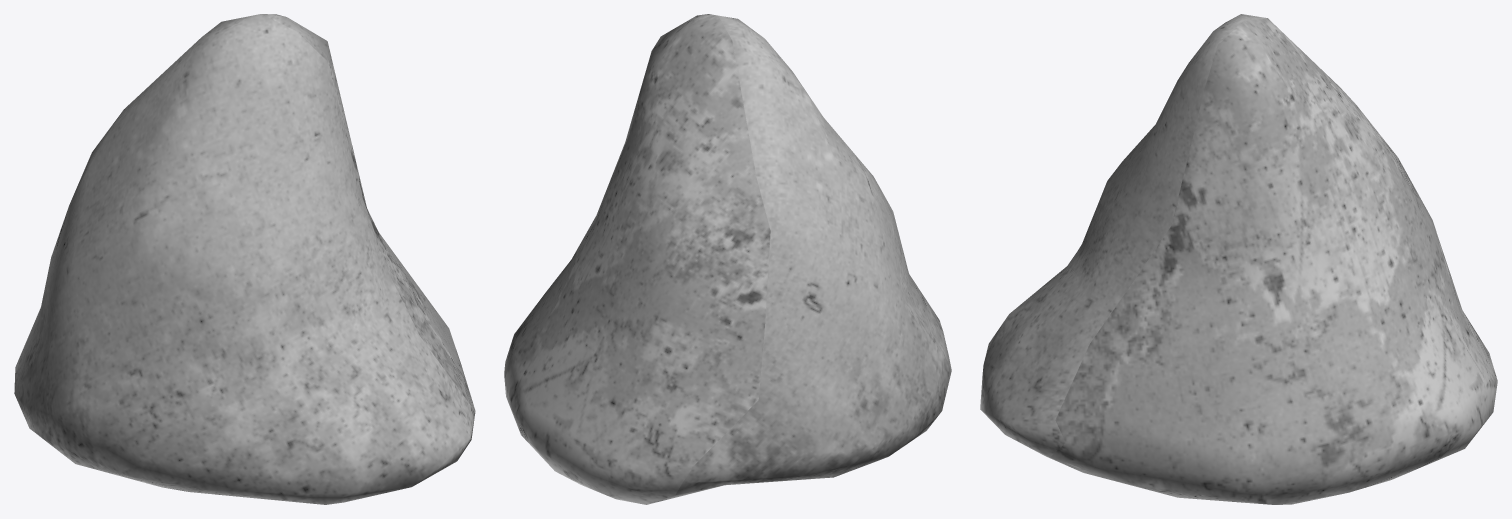
The model's file is SM_Snow_Pile_04a.fbx.
3 renders of one model, left to right at view 1: azimuth 30°, elevation 25°; view 2: azimuth 150°, elevation 25°; view 3: azimuth 270°, elevation 25°, orthographic. The views are drawn at different scales.
Parts seen in each view (by area): view 1: SM_Snow_Pile_04a_LOD0; view 2: SM_Snow_Pile_04a_LOD0; view 3: SM_Snow_Pile_04a_LOD0.
Part boxes in pixels (bbox=[...]): SM_Snow_Pile_04a_LOD0: bbox=[14, 14, 475, 504]; SM_Snow_Pile_04a_LOD0: bbox=[504, 14, 951, 504]; SM_Snow_Pile_04a_LOD0: bbox=[980, 14, 1497, 504].
Size of the model in its own units: 96.77 by 109 by 96.08.
